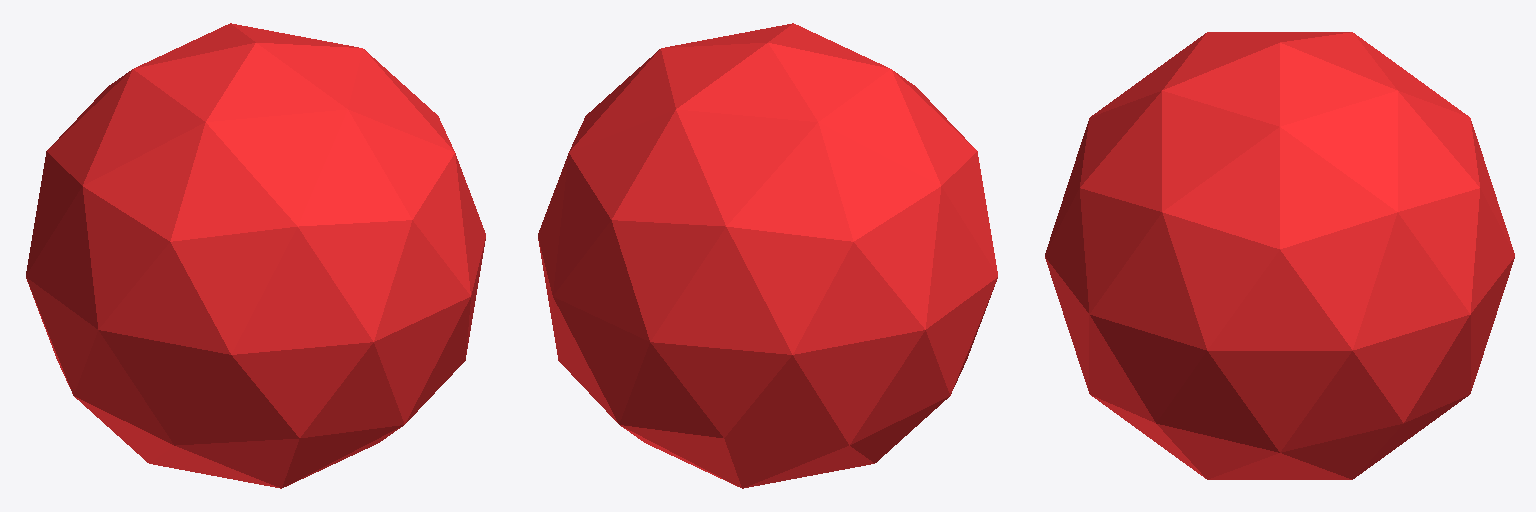
The picture shows the model from 3 angles: view 1: azimuth 30°, elevation 25°; view 2: azimuth 150°, elevation 25°; view 3: azimuth 270°, elevation 25°; orthographic projection.
Visible parts, largest first — view 1: ICO球; view 2: ICO球; view 3: ICO球.
Boxes of the visible parts, x1,y1,x2,y2 form: ICO球: [26, 23, 485, 488]; ICO球: [538, 23, 997, 488]; ICO球: [1045, 32, 1514, 479].
Bounding box in the file's own units: 5.71 × 6 × 6.
1 materials, 1 textured.